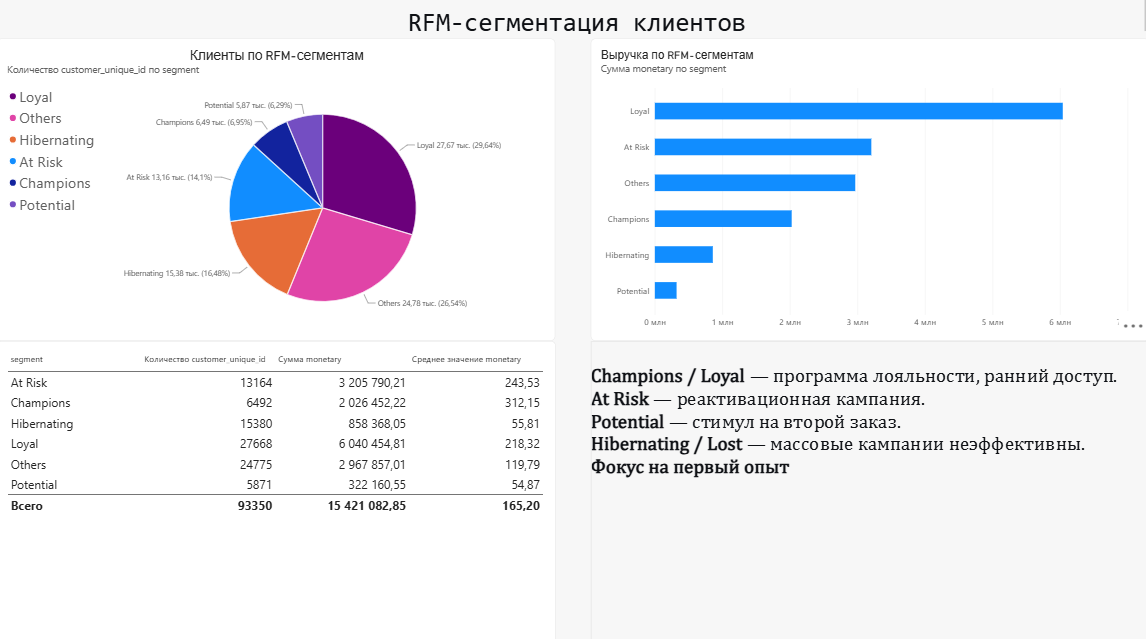

Layout of this report page (visuals, bound fields, positions):
{"tool":"powerbi","page":{"name":"rfm","canvas":[1920,1080],"ordinal":3},"visuals":[{"type":"pieChart","title":"Клиенты по RFM-сегментам","fields":{"Category":["rfm_segments.segment"],"Y":["CountNonNull(rfm_segments.customer_unique_id)"]},"box":[0,70.8,930.6,504.2],"z":0},{"type":"clusteredBarChart","title":"Выручка по RFM-сегментам","fields":{"Category":["rfm_segments.segment"],"Y":["Sum(rfm_segments.monetary)"]},"box":[989.9,70.8,930.9,504],"z":1},{"type":"tableEx","fields":{"Values":["rfm_segments.segment","rfm_segments.customer_unique_id","rfm_segments.monetary","rfm_segments.monetary1"]},"box":[0,575,930.9,504],"z":2},{"type":"textbox","box":[989.9,575,930.6,504.2],"z":3},{"type":"textbox","box":[43.8,0,1877.1,70.8],"z":4}]}

Visuals, with their boxes in screenshot pixels (x1, y1, x2, y2), scaled from the page's 1920x1080 canvas onto the 1146x639 screenshot:
"Клиенты по RFM-сегментам" pieChart: box(0, 42, 555, 340)
"Выручка по RFM-сегментам" clusteredBarChart: box(591, 42, 1145, 340)
tableEx - rfm_segments.segment x rfm_segments.customer_unique_id: box(0, 340, 556, 638)
textbox: box(591, 340, 1145, 638)
textbox: box(26, 0, 1145, 42)
